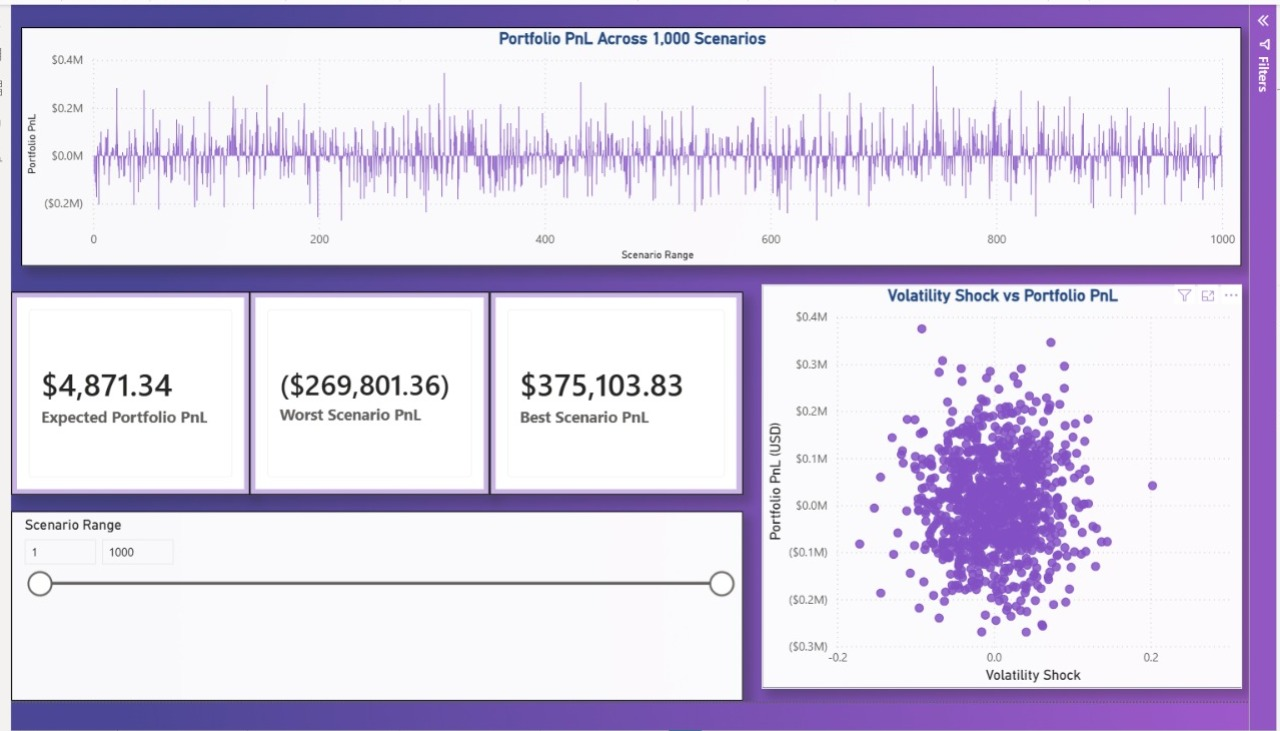

This screenshot's page, from the dashboard's own definition file:
{"tool":"powerbi","page":{"name":"Monte Carlo Risk Analysis","canvas":[1280,720],"ordinal":1},"visuals":[{"type":"ribbonChart","title":"Portfolio PnL Across 1,000 Scenarios","fields":{"Category":["mc_scenarios.ScenarioID"],"Y":["Sum(mc_scenarios.PortfolioPnL)"]},"box":[10.7,23.3,1262.5,247.1],"z":0},{"type":"cardVisual","fields":{"Data":["DimTime.Expected PnL Display"]},"box":[0,296.7,247.1,210.1],"z":1000},{"type":"cardVisual","fields":{"Data":["DimTime.Worst Scenario PnL"]},"box":[247.1,296.7,248,210.1],"z":2000},{"type":"cardVisual","fields":{"Data":["DimTime.Best Scenario PnL"]},"box":[495.1,296.7,261.6,210.1],"z":3000},{"type":"scatterChart","title":"Volatility Shock vs Portfolio PnL","fields":{"X":["Avg(mc_scenarios.VolShock)"],"Y":["Avg(mc_scenarios.PortfolioPnL)"],"Category":["mc_scenarios.ScenarioID"]},"box":[776.2,288.9,497,418.2],"z":4000},{"type":"slicer","fields":{"Values":["mc_scenarios.ScenarioID"]},"box":[0,523.3,756.7,196.5],"z":5000}]}

Visuals, with their boxes on the page's 1280x720 design canvas (x1, y1, x2, y2). These are canvas units, not pixel positions in the 1280x731 screenshot, which may show the page scaled, cropped or inside an application window:
"Portfolio PnL Across 1,000 Scenarios" ribbonChart: 11, 23, 1273, 270
cardVisual - DimTime.Expected PnL Display: 0, 297, 247, 507
cardVisual - DimTime.Worst Scenario PnL: 247, 297, 495, 507
cardVisual - DimTime.Best Scenario PnL: 495, 297, 757, 507
"Volatility Shock vs Portfolio PnL" scatterChart: 776, 289, 1273, 707
slicer - mc_scenarios.ScenarioID: 0, 523, 757, 720
